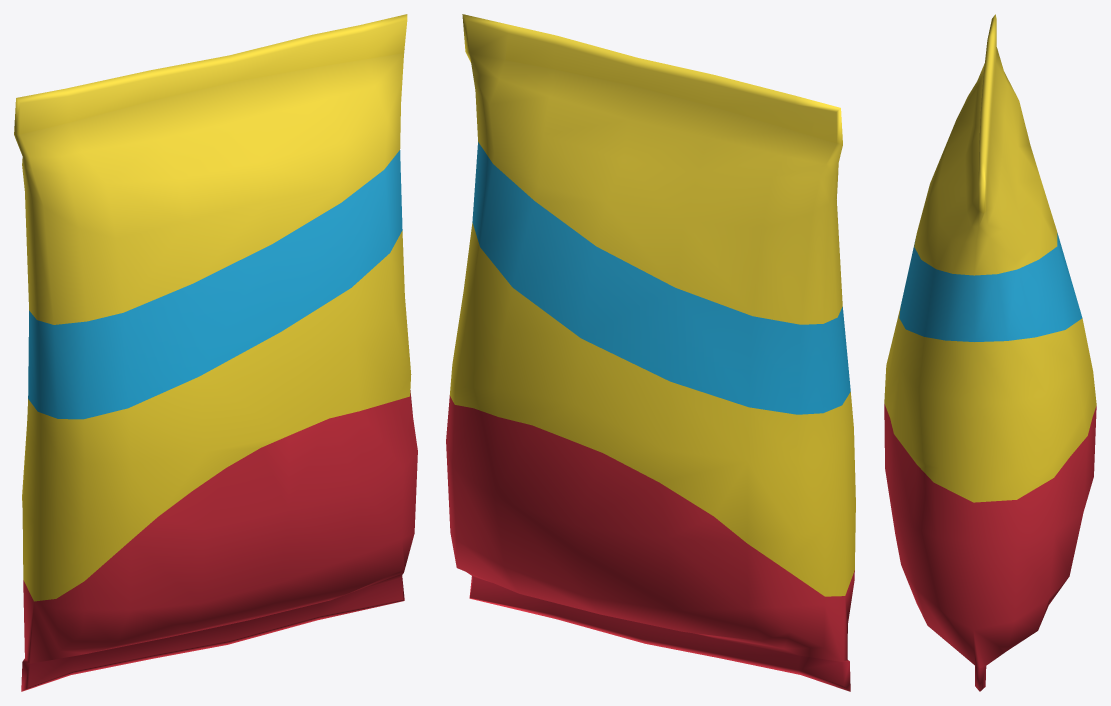
Rendered from chips_005.fbx.
The picture shows the model from 3 angles, left to right: view 1: azimuth 30°, elevation 25°; view 2: azimuth 150°, elevation 25°; view 3: azimuth 270°, elevation 25°; orthographic projection. The views are drawn at different scales.
Visible parts, largest first — view 1: chips_005; view 2: chips_005; view 3: chips_005.
Boxes of the visible parts, <box> form: chips_005: <box>14,14,417,691</box>; chips_005: <box>446,14,855,691</box>; chips_005: <box>884,14,1096,691</box>.
Size of the model in its own units: 15.92 by 8.63 by 23.18.
